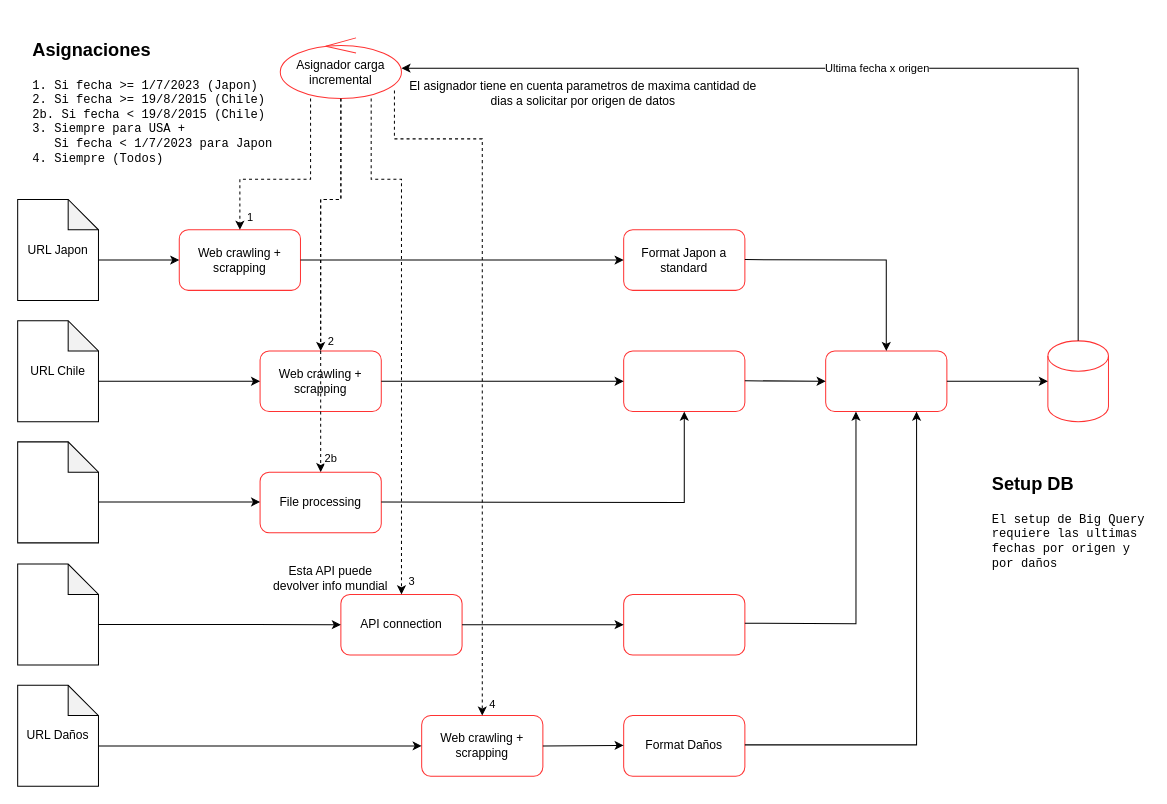
Some shapes in this 1167 by 804 pixel diagram are drawn without their labels. Each missing label, with the centre of its shape:
"Big Query" belongs at (1077,381).
"Dataset Chile carga inicial" belongs at (57,492).
"Format Chile a standard" belongs at (684,381).
"Format USGS a standard" belongs at (684,624).
"Update Big Query" belongs at (886,381).
"URL USA" belongs at (57,614).
